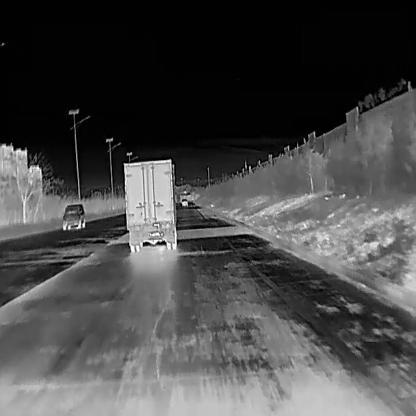car: (123, 157, 179, 251), (61, 203, 85, 228), (180, 198, 187, 206)
